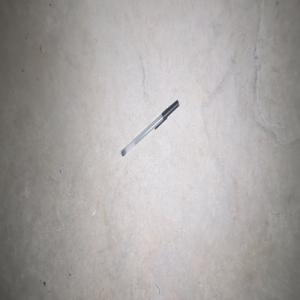Pen: (121, 99, 179, 156)
